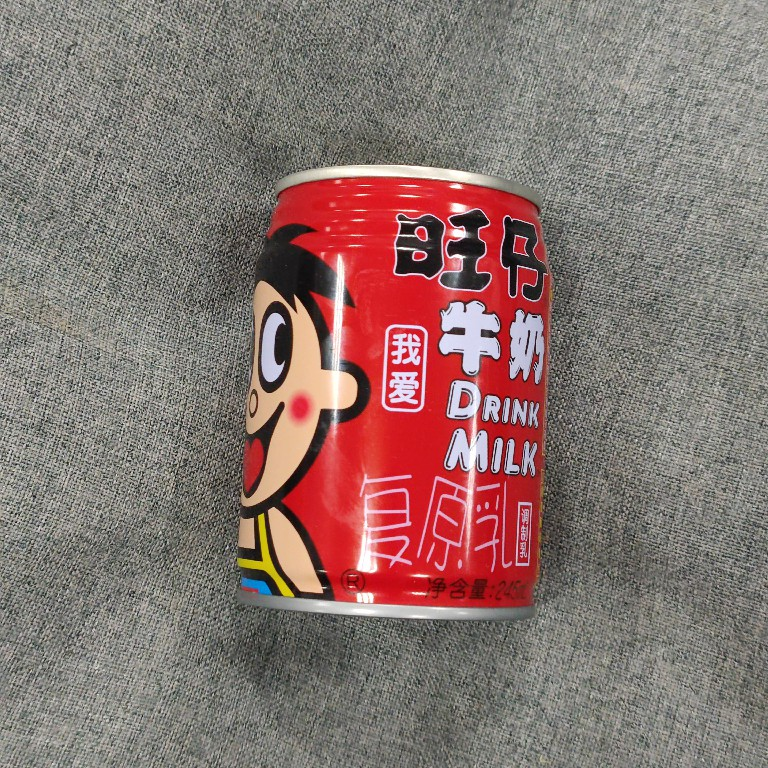can: (230, 160, 555, 630)
